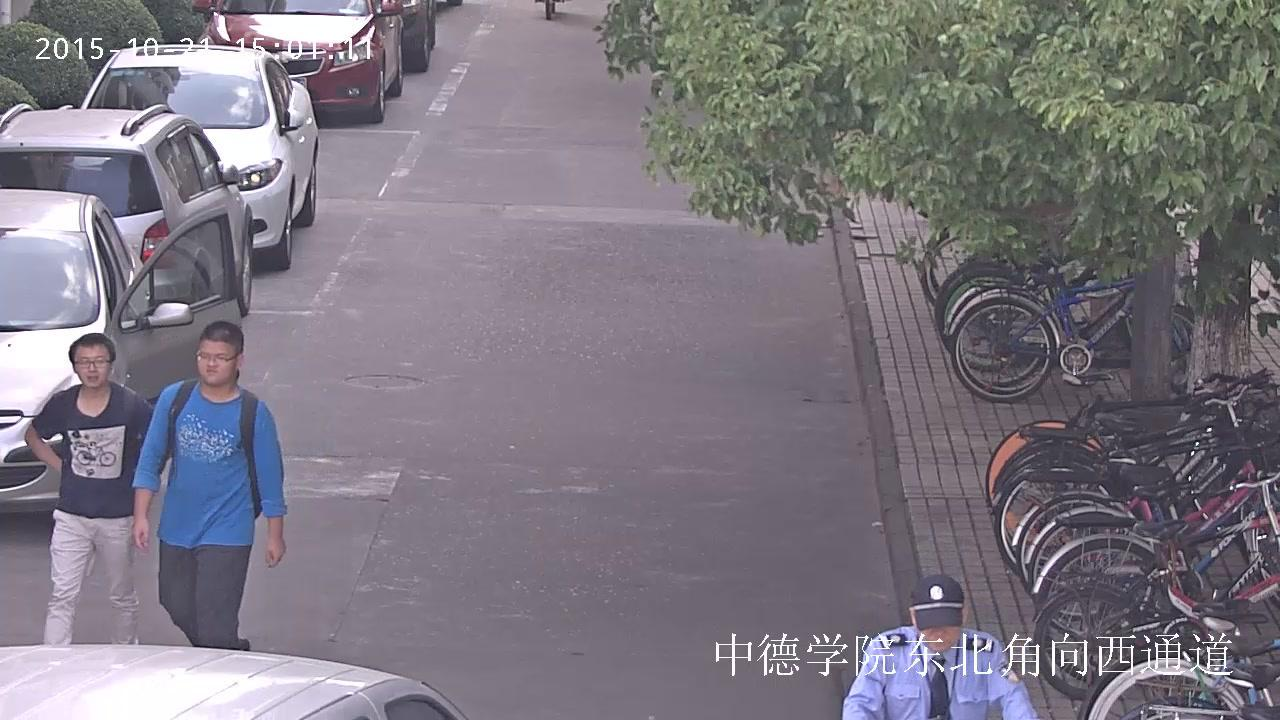face: (196, 339, 232, 385), (74, 347, 108, 387), (917, 624, 960, 651)
